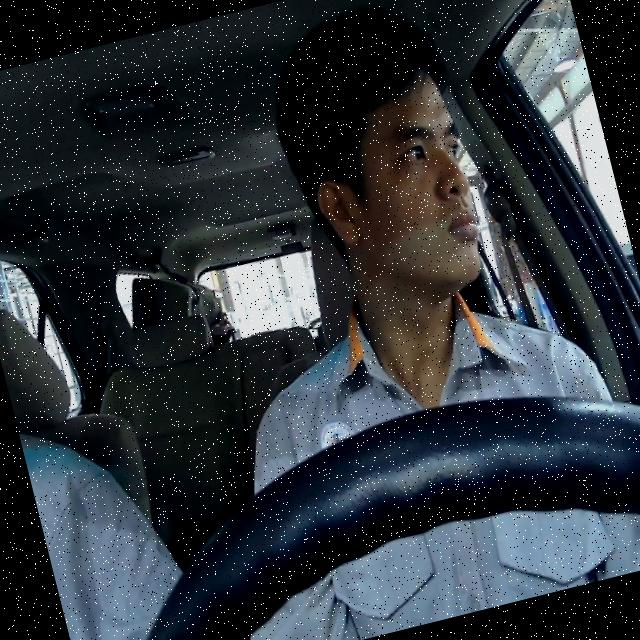seeing_right: (289, 63, 492, 313)
